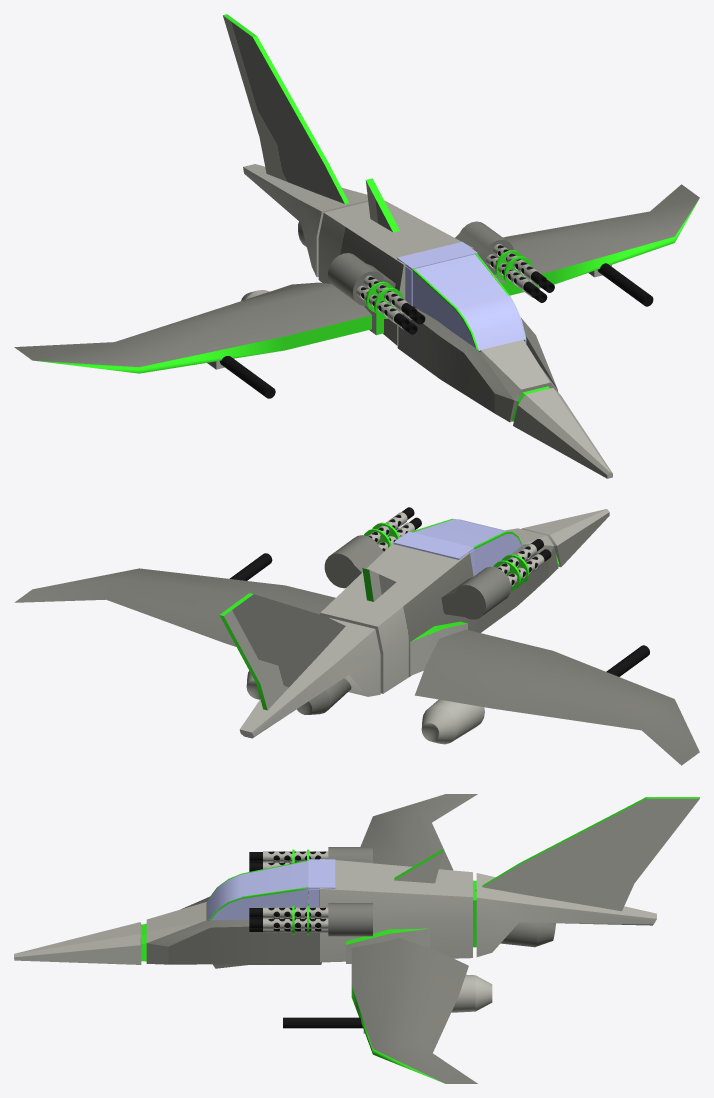
File: zikki_3D.fbx
The picture shows the model from 3 angles, top to bottom: view 1: azimuth 30°, elevation 25°; view 2: azimuth 150°, elevation 25°; view 3: azimuth 270°, elevation 25°; orthographic projection. The views are drawn at different scales.
Visible parts, largest first — view 1: polySurface225, polySurface222, polySurface224, polySurface231, polySurface223, polySurface228, polySurface216, polySurface247, polySurface217, polySurface263, polySurface220, polySurface236 (+2 smaller); view 2: polySurface225, polySurface222, polySurface224, polySurface231, polySurface223, polySurface247, polySurface240, polySurface263, polySurface228, polySurface216, polySurface230, polySurface220 (+5 smaller); view 3: polySurface222, polySurface224, polySurface231, polySurface227, polySurface223, polySurface225, polySurface216, polySurface221, polySurface263, polySurface234, polySurface229, polySurface235 (+7 smaller).
Part boxes in pixels (x1,y1,x2,y2): polySurface225: (14, 282, 371, 373); polySurface222: (243, 164, 473, 345); polySurface224: (494, 184, 699, 295); polySurface231: (223, 14, 348, 203); polySurface223: (480, 339, 612, 478); polySurface228: (397, 308, 513, 421); polySurface216: (415, 254, 525, 350); polySurface247: (327, 253, 395, 305); polySurface217: (412, 271, 475, 347); polySurface263: (455, 221, 513, 274); polySurface220: (397, 242, 477, 270); polySurface236: (365, 178, 399, 232); polySurface225: (414, 629, 699, 765); polySurface222: (239, 536, 476, 738); polySurface224: (14, 568, 335, 646); polySurface231: (219, 593, 345, 710); polySurface223: (505, 509, 609, 568); polySurface247: (441, 566, 510, 619); polySurface240: (421, 699, 484, 744); polySurface263: (324, 535, 383, 588); polySurface228: (476, 544, 557, 632); polySurface216: (413, 519, 508, 546); polySurface230: (410, 621, 467, 675); polySurface220: (393, 531, 474, 559); polySurface222: (320, 858, 656, 962); polySurface224: (351, 938, 477, 1083); polySurface231: (475, 797, 699, 911); polySurface227: (146, 919, 321, 964); polySurface223: (14, 902, 206, 964); polySurface225: (360, 794, 477, 870); polySurface216: (207, 861, 308, 920); polySurface221: (208, 888, 308, 920); polySurface263: (328, 903, 372, 936); polySurface234: (451, 974, 492, 1012); polySurface229: (346, 928, 429, 963); polySurface235: (501, 922, 555, 947).
Bounding box in the file's own units: 1536 × 441 × 1536.
